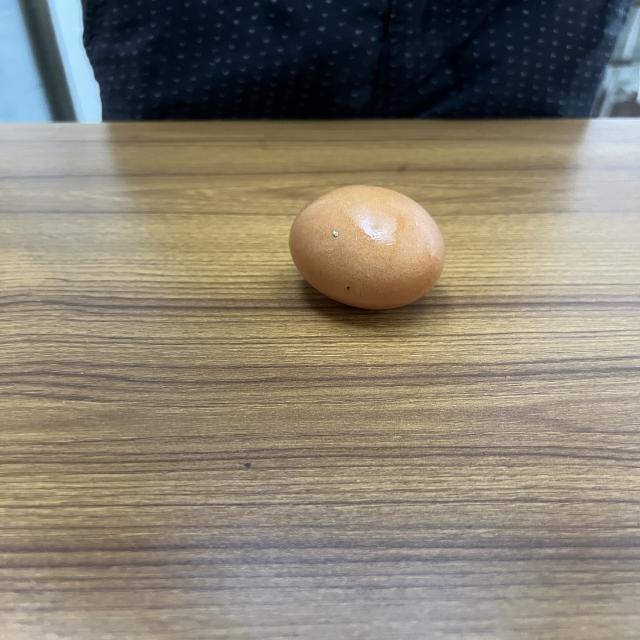Egg: (284, 181, 450, 317)
